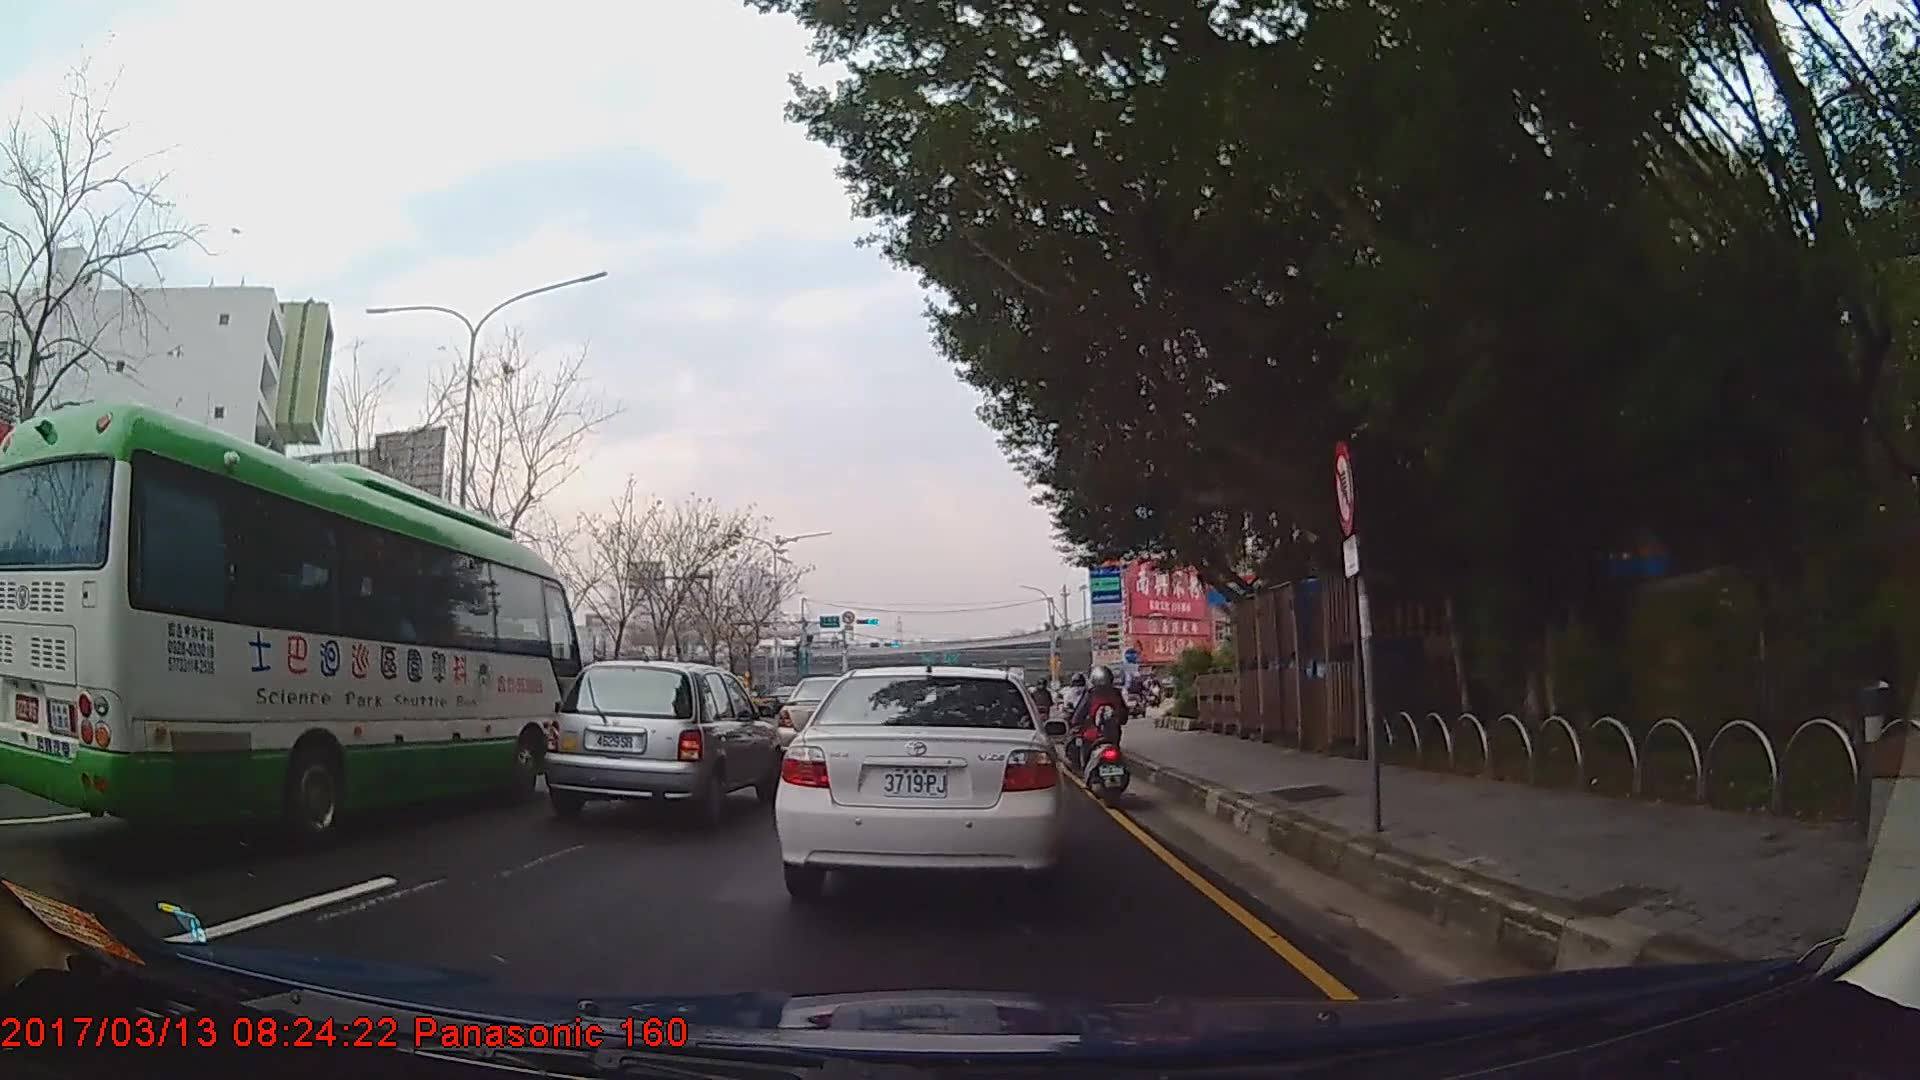rider: (1076, 661, 1128, 809), (1061, 670, 1097, 769), (1031, 675, 1055, 732), (1127, 673, 1149, 719)
vehicle: (5, 401, 582, 845), (773, 664, 1065, 897), (544, 656, 781, 831), (766, 684, 806, 715)
